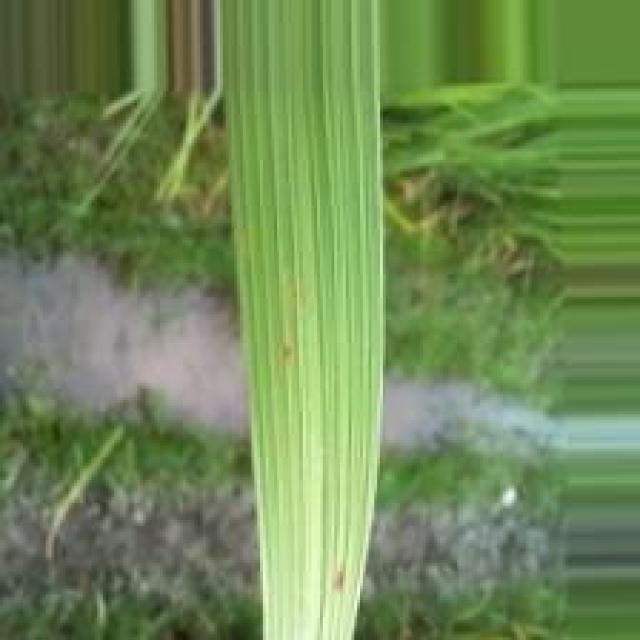Brown_Spot: (277, 342, 296, 366), (332, 566, 346, 594)
